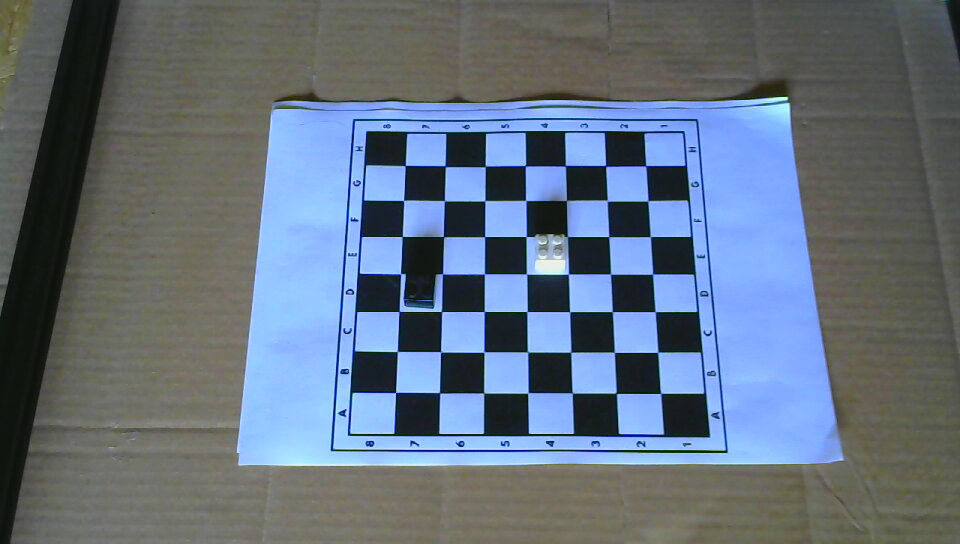bp: (403, 268, 438, 309)
wp: (533, 230, 567, 273)
